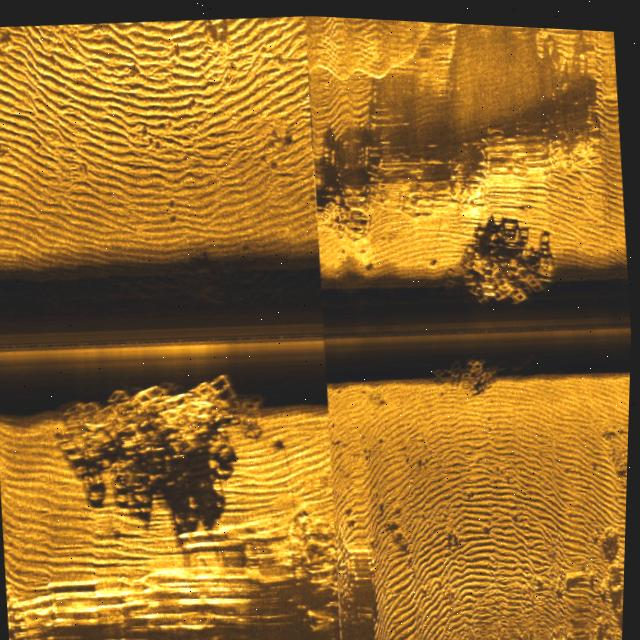artificial reef: (43, 354, 277, 502), (439, 226, 556, 304), (413, 336, 526, 390)
